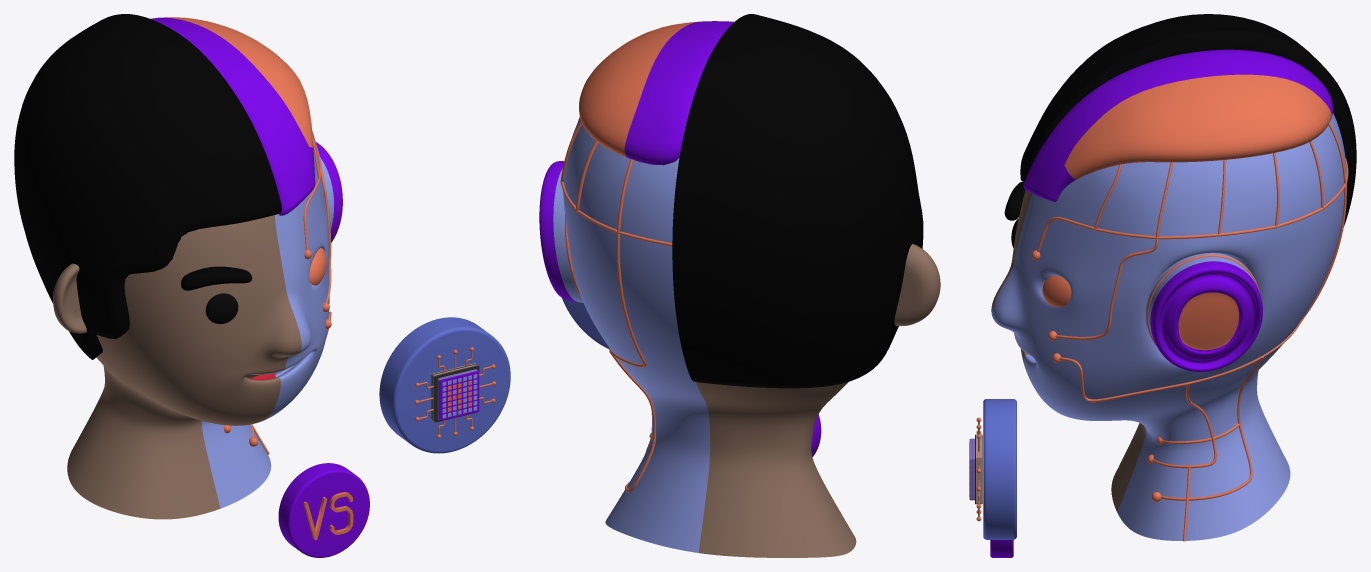
Rendered from human-vs-ai-3d-animated-icon-661844386475.glb.
3 renders of one model, left to right at view 1: azimuth 30°, elevation 25°; view 2: azimuth 150°, elevation 25°; view 3: azimuth 270°, elevation 25°, orthographic. The views are drawn at different scales.
Visible parts, largest first — view 1: Cube.076, Cube.018, Cylinder.001, Cube.002, Cylinder.002, Cube.005, Cube.003, Cube.078, Curve.001, Sphere.008, Sphere.010, Cube.008; view 2: Cube.018, Cube.076, Cube.002, Cube.005, Cylinder.001; view 3: Cube.076, Cube.002, Cube.018, Cube.005, Cylinder.001, Sphere.001, Cube.078, Cube.004.
Part boxes in pixels (<box>): Cube.076: <box>53,133,342,519</box>; Cube.018: <box>14,14,281,359</box>; Cylinder.001: <box>379,317,510,453</box>; Cube.002: <box>150,17,315,215</box>; Cylinder.002: <box>278,463,369,557</box>; Cube.005: <box>223,130,331,454</box>; Cube.003: <box>438,370,479,420</box>; Cube.078: <box>181,266,252,290</box>; Curve.001: <box>303,492,353,540</box>; Sphere.008: <box>205,293,238,324</box>; Sphere.010: <box>414,347,495,438</box>; Cube.008: <box>442,374,477,418</box>; Cube.018: <box>672,14,923,388</box>; Cube.076: <box>539,118,940,557</box>; Cube.002: <box>579,21,733,165</box>; Cube.005: <box>560,116,672,492</box>; Cylinder.001: <box>562,298,608,348</box>; Cube.076: <box>991,113,1346,540</box>; Cube.002: <box>1023,49,1332,201</box>; Cube.018: <box>1020,14,1356,225</box>; Cube.005: <box>1031,122,1348,541</box>; Cylinder.001: <box>983,399,1016,539</box>; Sphere.001: <box>1042,275,1071,307</box>; Cube.078: <box>1004,181,1025,220</box>; Cube.004: <box>1146,254,1259,346</box>.
Size of the model in its own units: 0.262 by 0.305 by 0.2185.
